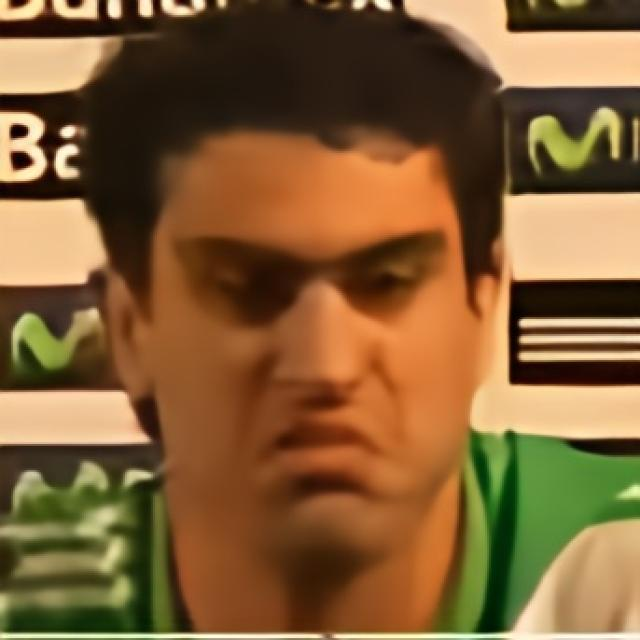disgust: (149, 138, 474, 556)
